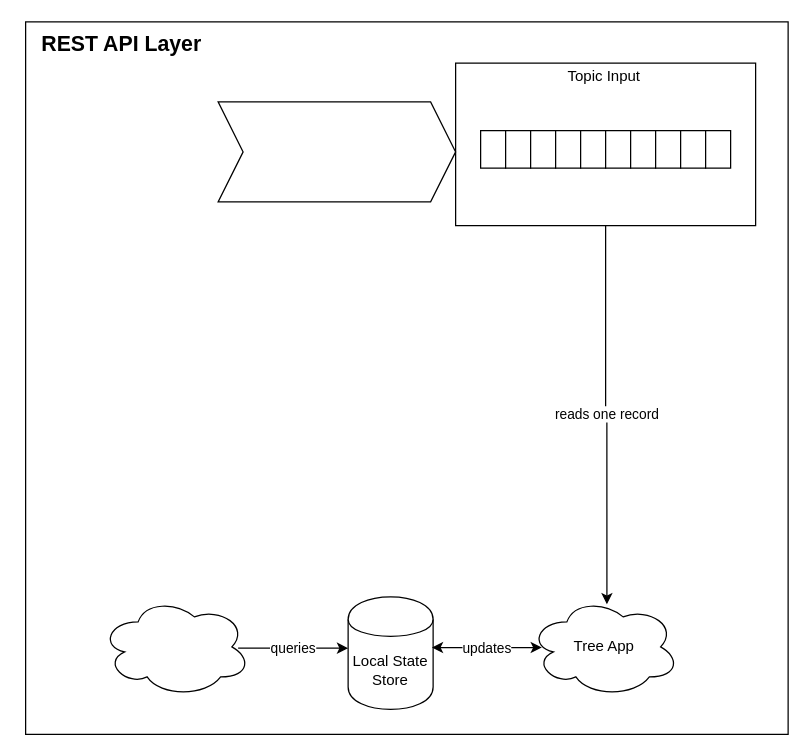
This 810x756 diagram has some shape labels left out. Here are the shapes that lost their labels. From the top down, the centre of each, then its label:
(336,151): Sequence of Records
(175,646): Query App
